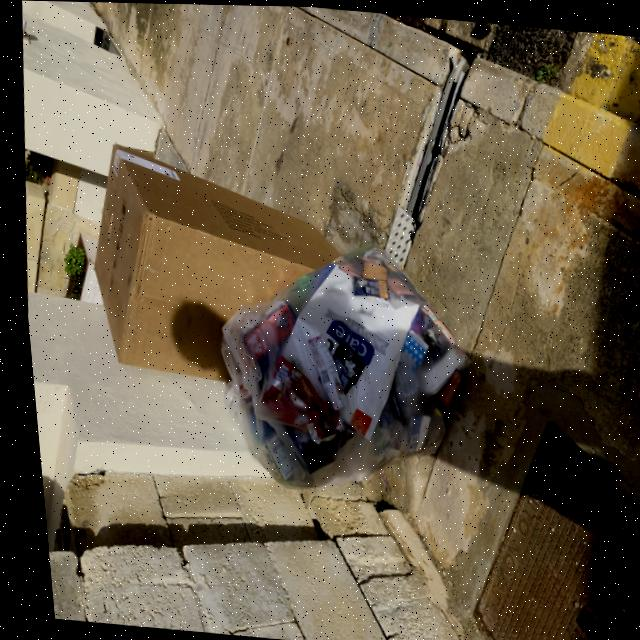Organic Waste -White Bag-: (205, 234, 481, 497)
